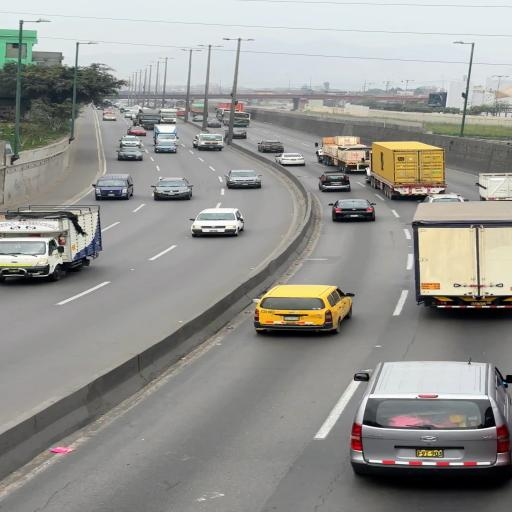auto: (350, 362, 511, 480), (256, 285, 352, 333), (189, 207, 247, 238), (329, 198, 377, 222), (152, 176, 194, 200), (224, 169, 263, 189), (316, 171, 350, 191), (273, 153, 305, 165), (256, 140, 284, 153), (126, 126, 148, 136)
bus: (412, 224, 512, 302), (2, 209, 102, 275), (371, 141, 444, 186), (322, 137, 371, 172), (477, 172, 511, 201), (332, 136, 362, 146)
